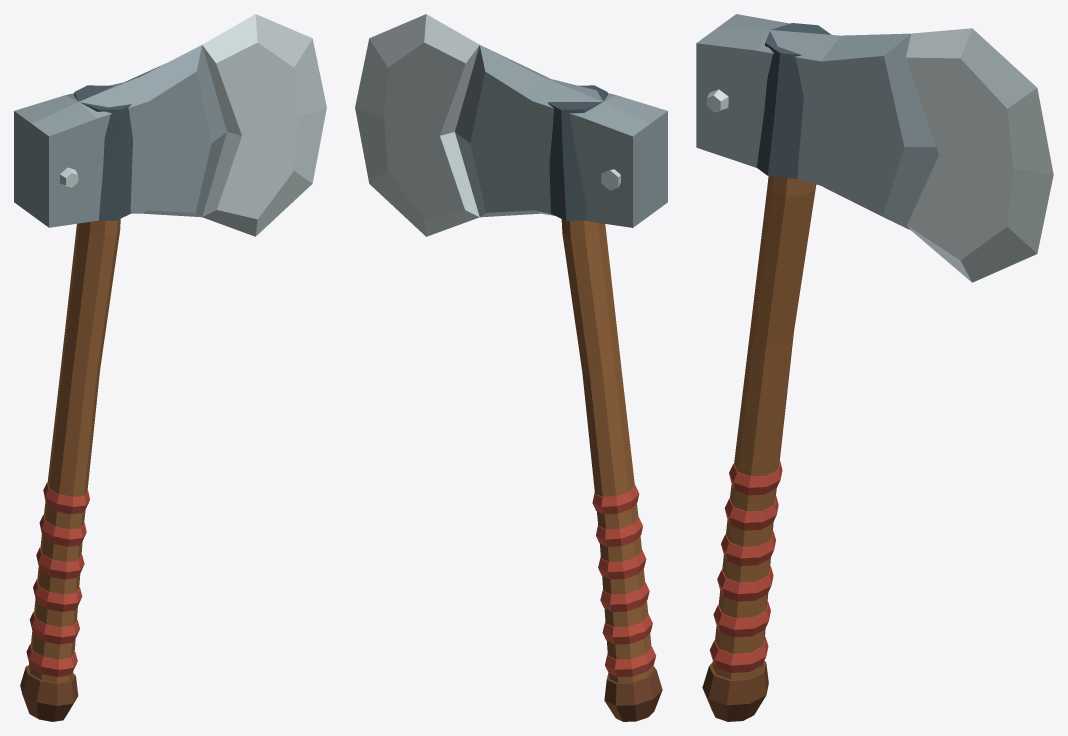
Rendered from iron_axe_viewmodel.glb.
3 renders of one model, left to right at view 1: azimuth 30°, elevation 25°; view 2: azimuth 150°, elevation 25°; view 3: azimuth 330°, elevation 25°, orthographic. The views are drawn at different scales.
Visible parts, largest first — view 1: Iron_Axe_Head.001, Iron_Axe_Bit.001, Handle.009, Iron_Axe_Socket.001, Handle_Butt.009, Grip_Wrap_1.009, Grip_Wrap_2.009, Grip_Wrap_3.009, Grip_Wrap_4.009, Grip_Wrap_5.009, Grip_Wrap_6.009; view 2: Iron_Axe_Head.001, Iron_Axe_Bit.001, Handle.009, Iron_Axe_Socket.001, Handle_Butt.009, Grip_Wrap_1.009, Grip_Wrap_2.009, Grip_Wrap_3.009, Grip_Wrap_4.009, Grip_Wrap_5.009, Grip_Wrap_6.009; view 3: Iron_Axe_Head.001, Iron_Axe_Bit.001, Handle.009, Iron_Axe_Socket.001, Handle_Butt.009, Grip_Wrap_1.009, Grip_Wrap_2.009, Grip_Wrap_3.009, Grip_Wrap_4.009, Grip_Wrap_5.009, Grip_Wrap_6.009.
Boxes of the visible parts, box(x1,y1,x2,y2) form: Iron_Axe_Head.001: box(14, 45, 226, 227); Iron_Axe_Bit.001: box(202, 14, 326, 236); Handle.009: box(28, 219, 120, 682); Iron_Axe_Socket.001: box(74, 85, 132, 220); Handle_Butt.009: box(20, 665, 78, 721); Grip_Wrap_1.009: box(26, 644, 77, 676); Grip_Wrap_2.009: box(29, 611, 79, 644); Grip_Wrap_3.009: box(33, 579, 82, 611); Grip_Wrap_4.009: box(36, 547, 84, 579); Grip_Wrap_5.009: box(39, 514, 86, 546); Grip_Wrap_6.009: box(43, 482, 89, 514); Iron_Axe_Head.001: box(455, 45, 667, 227); Iron_Axe_Bit.001: box(355, 14, 479, 236); Handle.009: box(561, 219, 653, 682); Iron_Axe_Socket.001: box(548, 85, 607, 220); Handle_Butt.009: box(604, 665, 662, 721); Grip_Wrap_1.009: box(605, 647, 656, 676); Grip_Wrap_2.009: box(602, 614, 652, 644); Grip_Wrap_3.009: box(600, 582, 649, 611); Grip_Wrap_4.009: box(598, 550, 646, 579); Grip_Wrap_5.009: box(596, 517, 642, 546); Grip_Wrap_6.009: box(592, 485, 639, 514); Iron_Axe_Head.001: box(696, 14, 937, 229); Iron_Axe_Bit.001: box(906, 28, 1053, 282); Handle.009: box(712, 176, 816, 679); Iron_Axe_Socket.001: box(756, 23, 831, 178); Handle_Butt.009: box(702, 661, 768, 721); Grip_Wrap_1.009: box(709, 637, 768, 672); Grip_Wrap_2.009: box(713, 602, 770, 637); Grip_Wrap_3.009: box(717, 566, 773, 601); Grip_Wrap_4.009: box(721, 531, 775, 566); Grip_Wrap_5.009: box(724, 496, 778, 530); Grip_Wrap_6.009: box(729, 461, 782, 495).
Bounding box in the file's own units: 0.6771 × 1.39 × 0.166.
